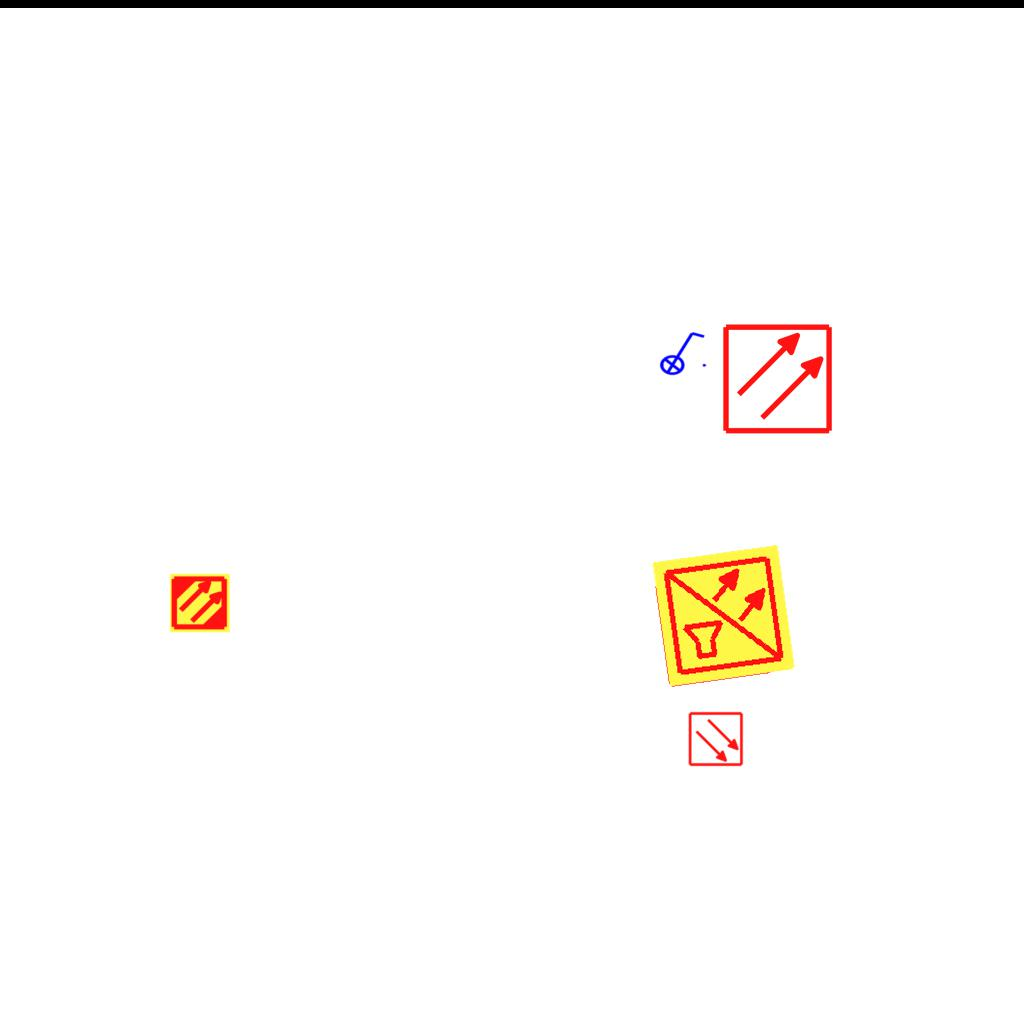ASR_Ansaugrauchmelder: (169, 572, 231, 634)
Ausschalter_beleuchtet: (653, 328, 709, 376)
OKW_Multisensormelder_(Kombination_optischer_Rauch-Kahlenmonoxid_Waerme-Melder): (649, 541, 799, 691)
RMO_Rauchmelder_optischer: (721, 322, 834, 435), (688, 711, 744, 767)
